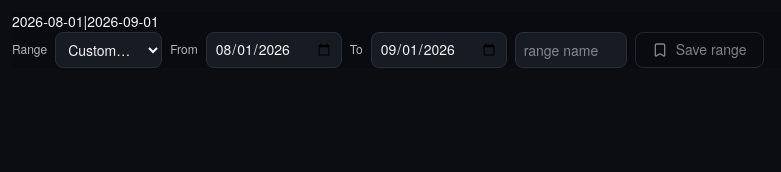
Test: selecting a saved range applies its dates to the active value
Select "September" in the dropdown labelled "Range" at point(109, 50), box [55, 32, 162, 68]
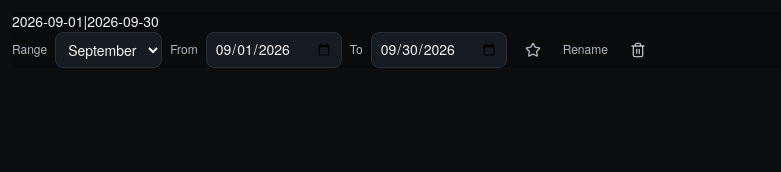
Expected: the text with test id "active" reads "2026-09-01|2026-09-30", [12, 11, 159, 31]
